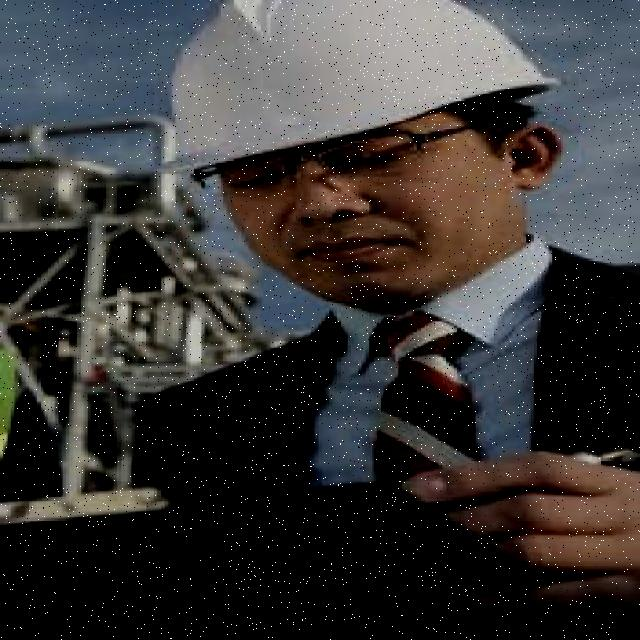Helmet: (107, 144, 535, 306)
